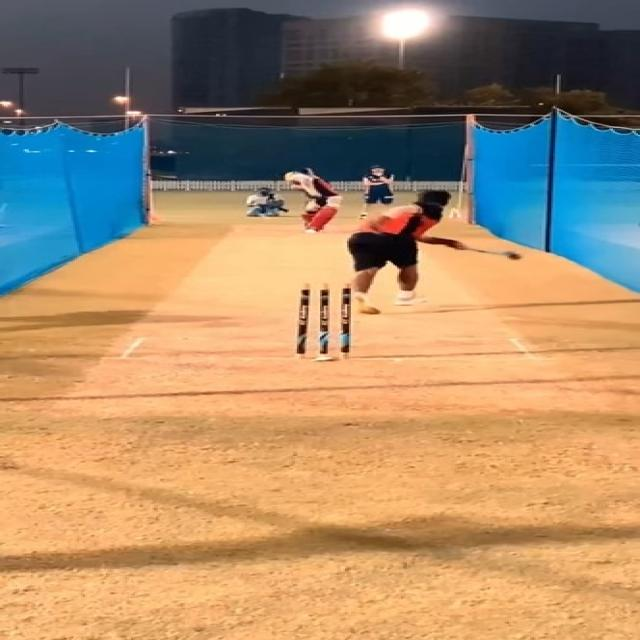batsman: (283, 167, 344, 234)
